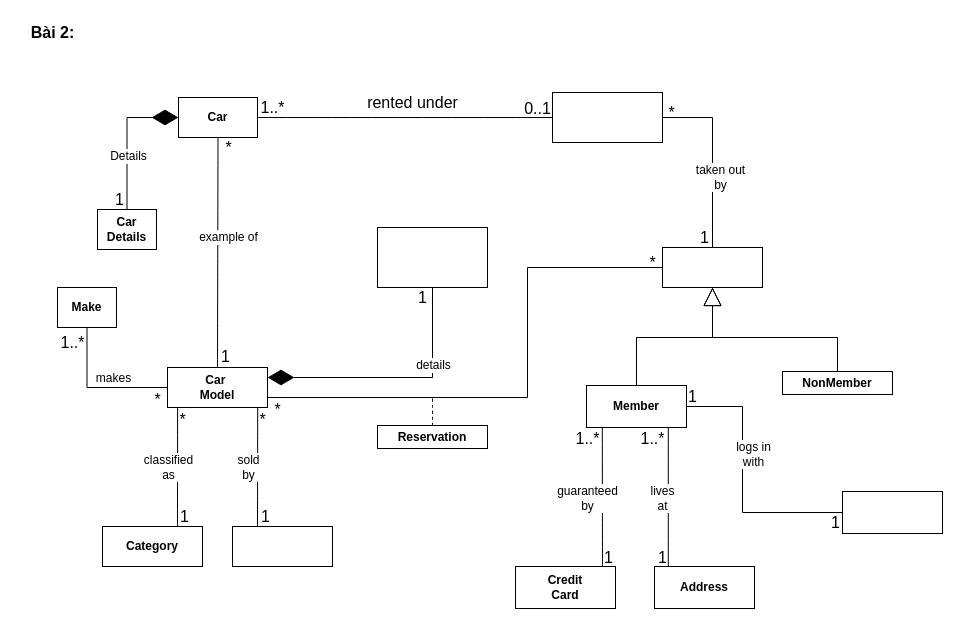
The diagram is 960 pixels wide and 626 high, and some of its shapes have lost their labels. The shapes that lost their labels are listed below. From the top down, each one's box as (x1, y1, x2, y2) in pixels, then its label:
(552, 92, 662, 142): Rental
(376, 226, 488, 288): Car Model Details
(662, 246, 762, 288): Customer
(842, 490, 942, 534): Internet Account
(232, 526, 332, 566): Vendor
